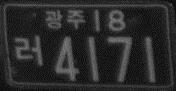1: (143, 34, 157, 84), (86, 35, 100, 82), (92, 7, 101, 33)
4: (54, 35, 80, 82)
7: (105, 35, 133, 83)
8: (108, 9, 126, 32)
광주_O: (44, 8, 85, 29)
러: (13, 34, 44, 67)
